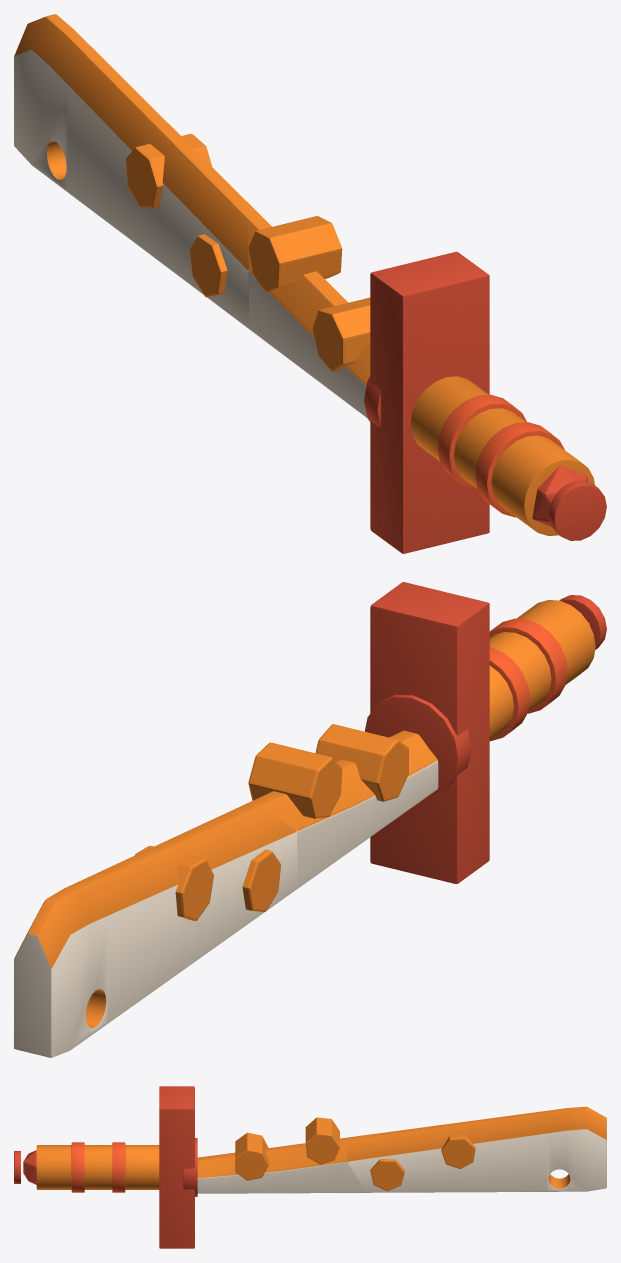
The model's file is Sword_SlagheapCleaver.glb.
3 renders of one model, top to bottom at view 1: azimuth 30°, elevation 25°; view 2: azimuth 150°, elevation 25°; view 3: azimuth 270°, elevation 25°, orthographic. The views are drawn at different scales.
Visible parts, largest first — view 1: Sword_SlagheapCleaver; view 2: Sword_SlagheapCleaver; view 3: Sword_SlagheapCleaver.
Boxes of the visible parts, bbox=[...] form: Sword_SlagheapCleaver: bbox=[14, 14, 606, 553]; Sword_SlagheapCleaver: bbox=[14, 582, 606, 1057]; Sword_SlagheapCleaver: bbox=[14, 1086, 606, 1248].
Bounding box in the file's own units: 0.1 × 0.26 × 1.
1 material, 1 textured.
